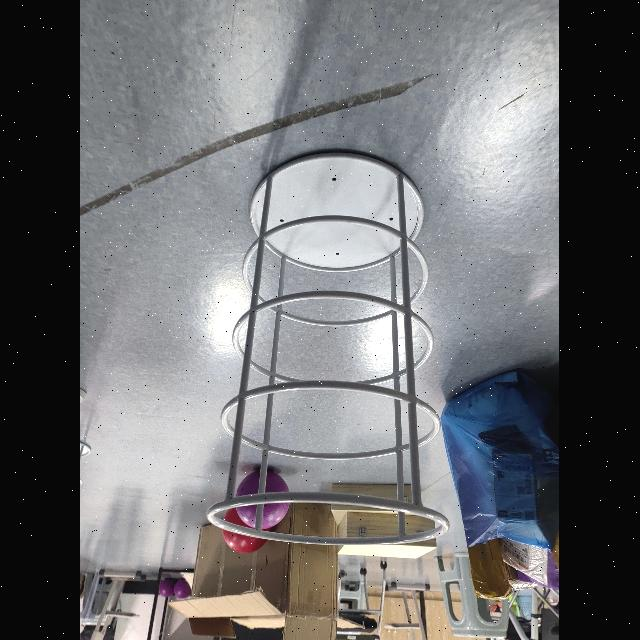S: (204, 147, 453, 551)
